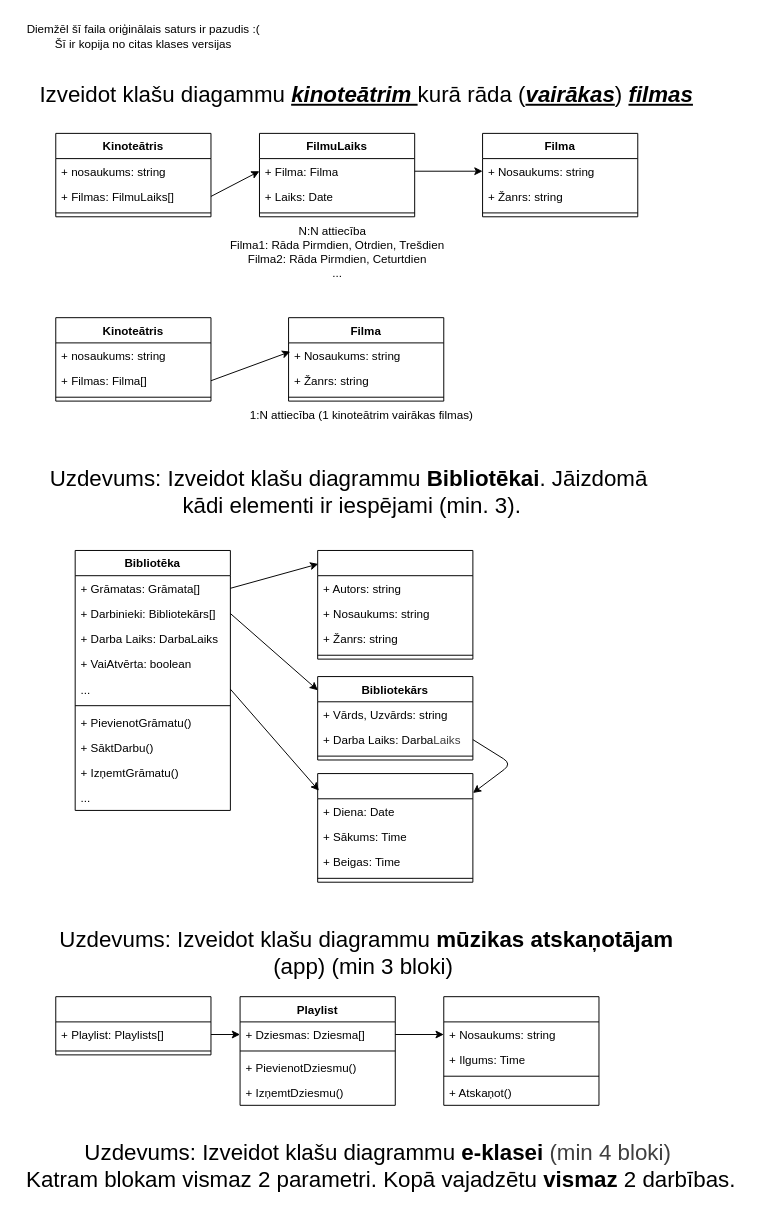
Image size: 760x1216. Some labels were removed from this diagram. Each missing label, with the box of its shape:
Darba Laiks: (317, 773, 473, 882)
Dziesma: (443, 996, 599, 1105)
Grāmata: (317, 550, 473, 659)
Mūzikas Atkaņotājs: (55, 996, 211, 1055)
